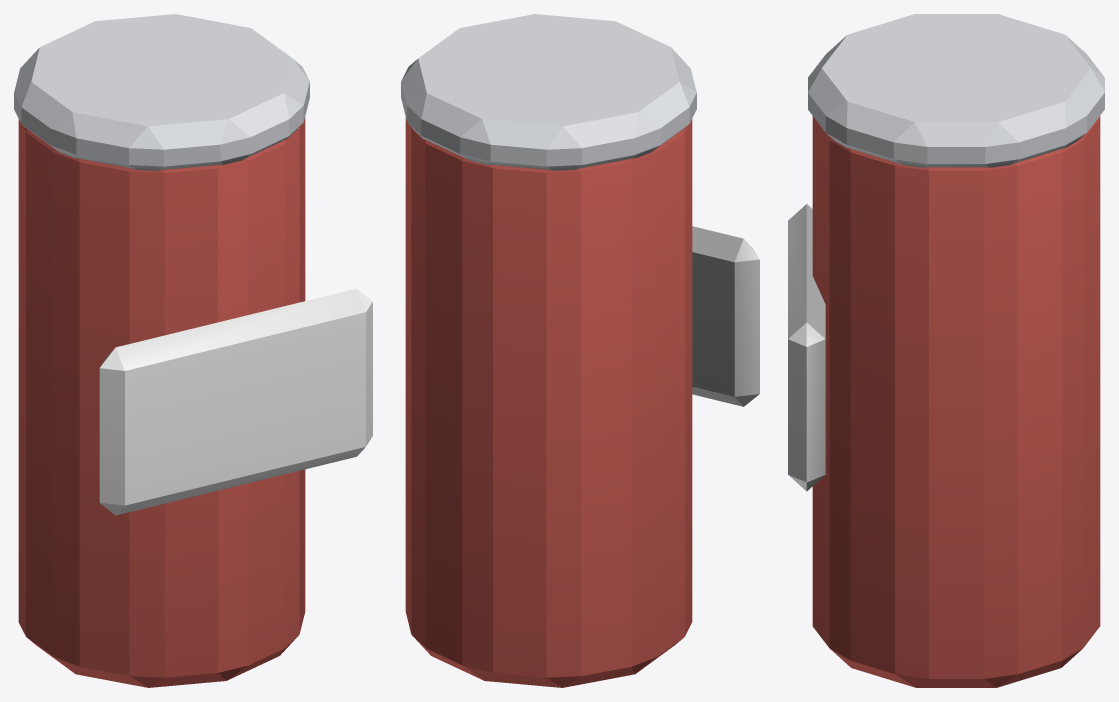
The model's file is FishCan.fbx.
3 views of the same model, side by side, from view 1: azimuth 30°, elevation 25°; view 2: azimuth 150°, elevation 25°; view 3: azimuth 270°, elevation 25° (orthographic).
Visible parts, largest first — view 1: Body; view 2: Body; view 3: Body.
Boxes of the visible parts, x1=… form: Body: x1=14, y1=14, x2=372, y2=687; Body: x1=401, y1=14, x2=759, y2=687; Body: x1=788, y1=14, x2=1104, y2=687.
Bounding box in the file's own units: 0.17 × 0.335 × 0.1694.
